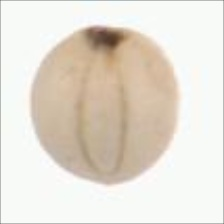L5: (76, 48, 133, 175), (73, 24, 142, 54)
L6: (27, 26, 183, 187)
